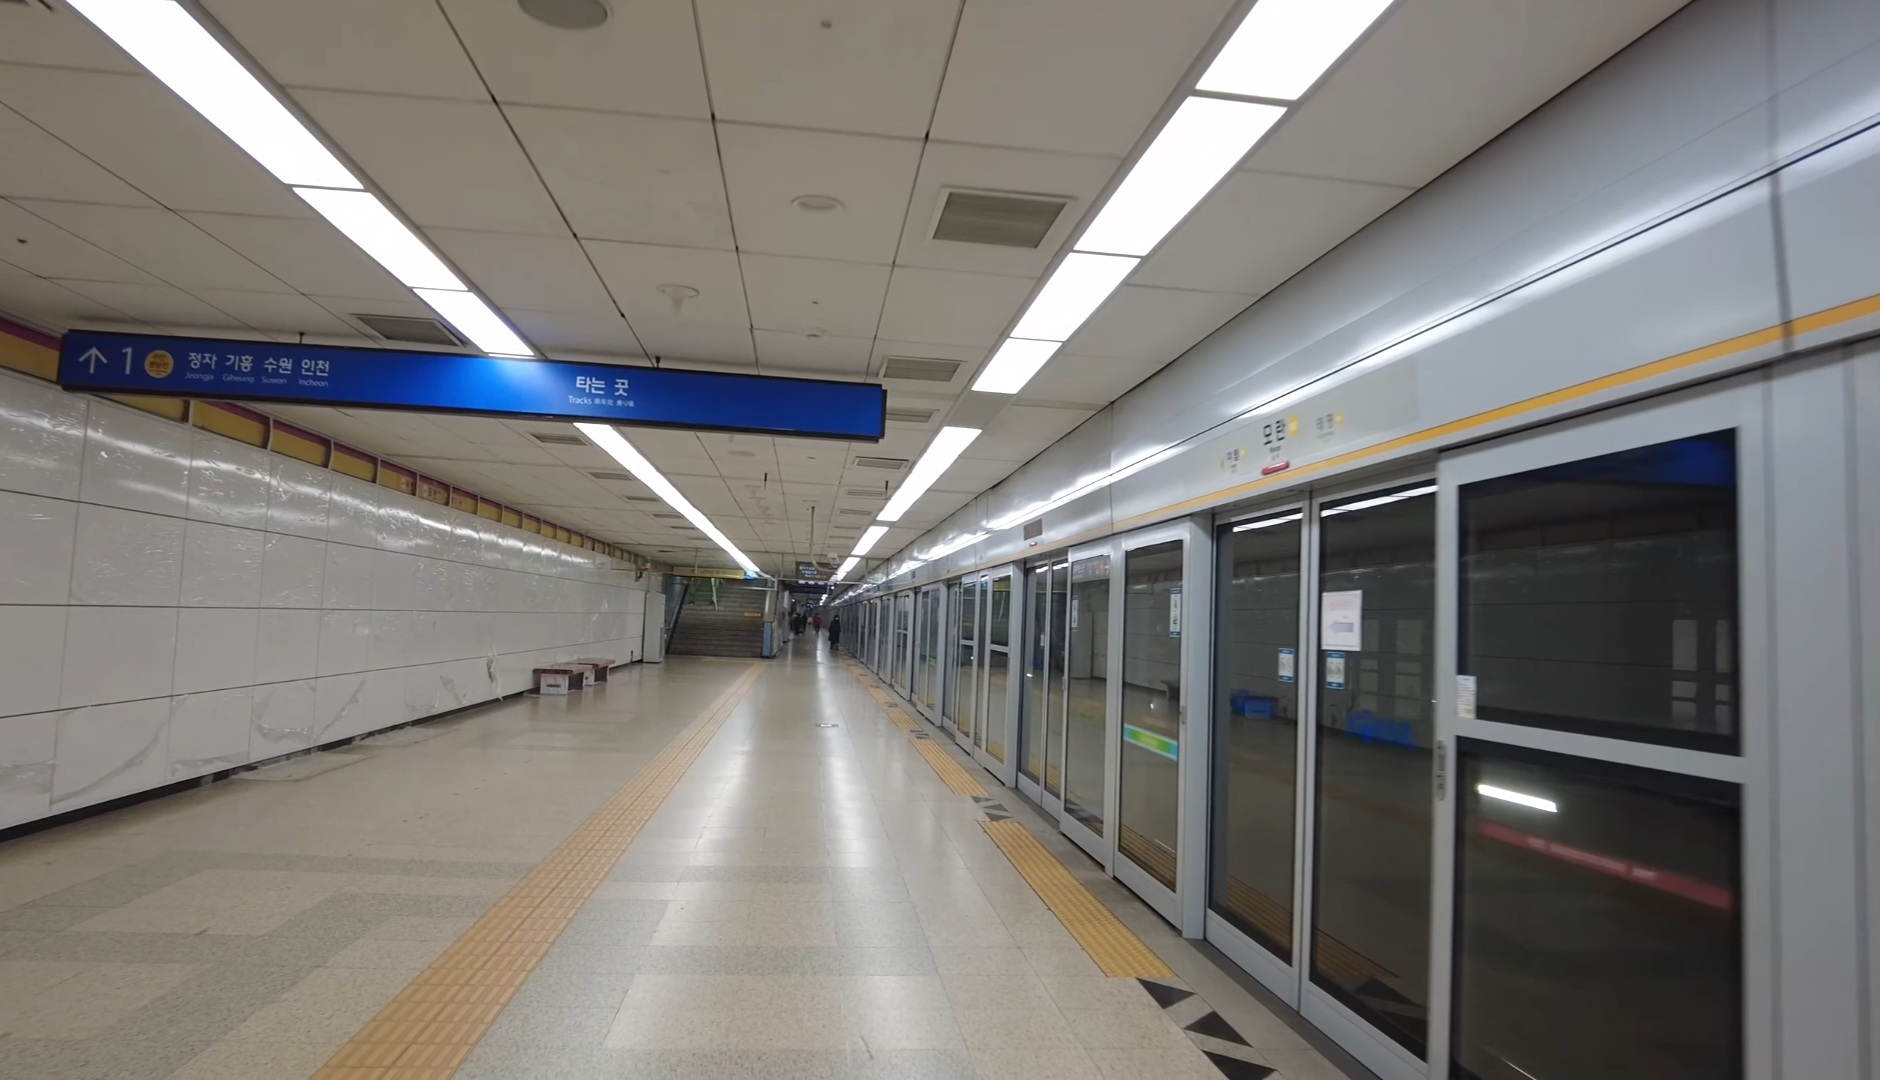signBoard: (53, 317, 894, 451)
